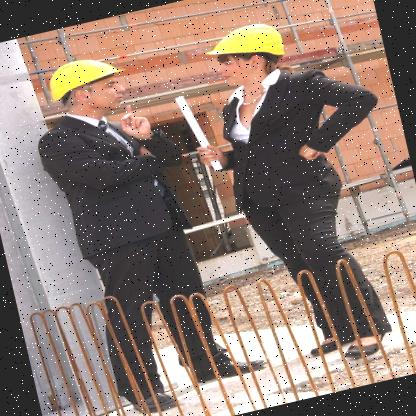capacete: (200, 16, 296, 94), (40, 48, 133, 126)
sem_colete_refletivo: (31, 95, 201, 264), (205, 60, 355, 216)
